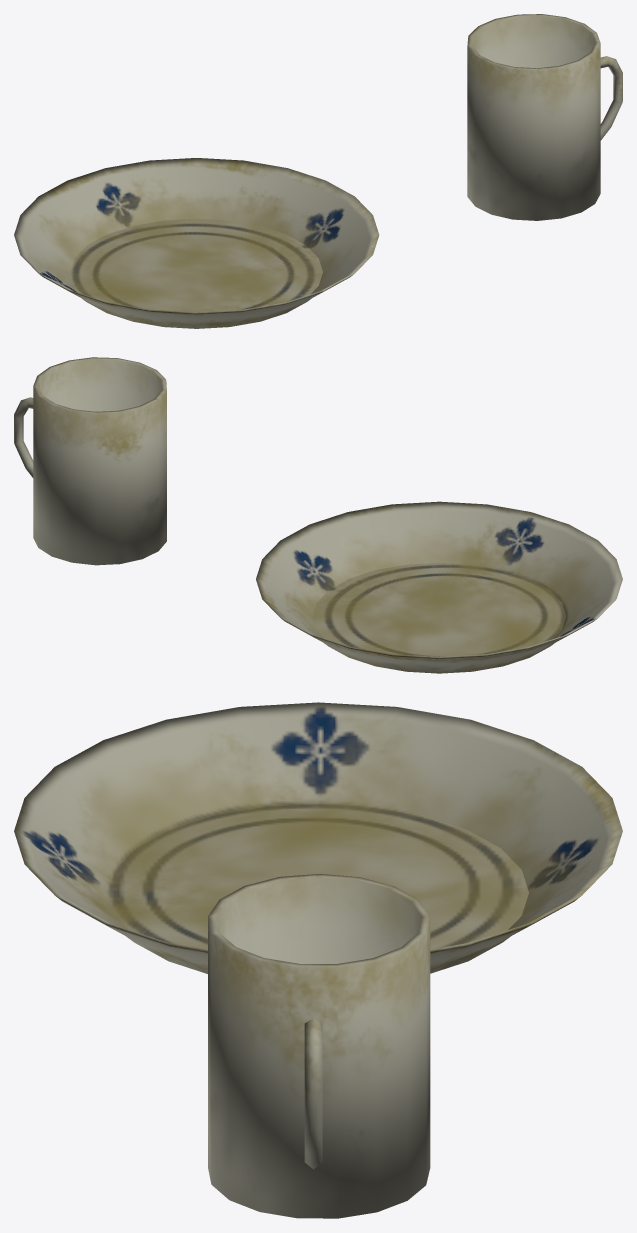
The model's file is CupPlate.FBX.
The picture shows the model from 3 angles, top to bottom: view 1: azimuth 30°, elevation 25°; view 2: azimuth 150°, elevation 25°; view 3: azimuth 270°, elevation 25°; orthographic projection. The views are drawn at different scales.
Parts seen in each view (by area): view 1: plate, cup; view 2: plate, cup; view 3: plate, cup.
Part boxes in pixels (x1=…): plate: x1=14, y1=158, x2=379, y2=328; cup: x1=467, y1=14, x2=622, y2=220; plate: x1=256, y1=501, x2=622, y2=673; cup: x1=14, y1=357, x2=166, y2=565; plate: x1=14, y1=702, x2=622, y2=973; cup: x1=208, y1=874, x2=430, y2=1218.
Size of the model in its own units: 25.55 by 6.31 by 13.87.
Materials: 1 (1 with a texture image).
